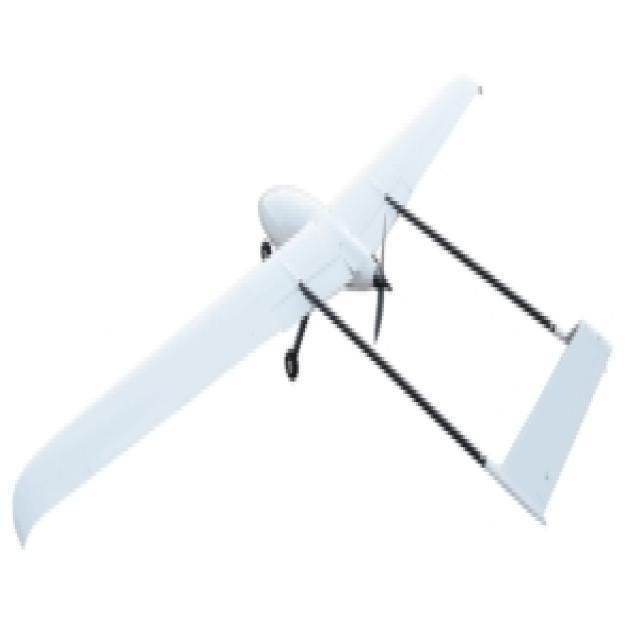iha: (11, 57, 606, 545)
